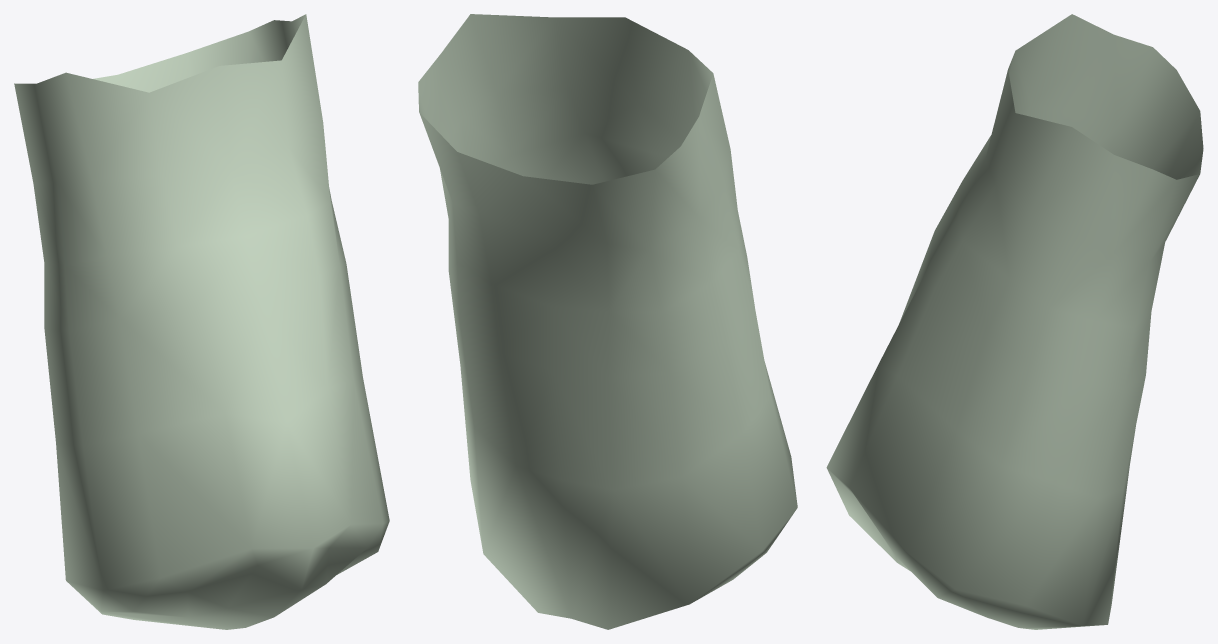
File: egyptian_beard_pharao_square.dae
3 views of the same model, side by side, from view 1: azimuth 30°, elevation 25°; view 2: azimuth 150°, elevation 25°; view 3: azimuth 270°, elevation 25° (orthographic). The views are drawn at different scales.
Parts seen in each view (by area): view 1: _main01_008; view 2: _main01_008; view 3: _main01_008.
Part boxes in pixels (x1,y1,x2,y2): _main01_008: (14,14,389,629); _main01_008: (418,14,797,629); _main01_008: (826,14,1203,629).
Size of the model in its own units: 0.1828 by 0.2144 by 0.3439.
